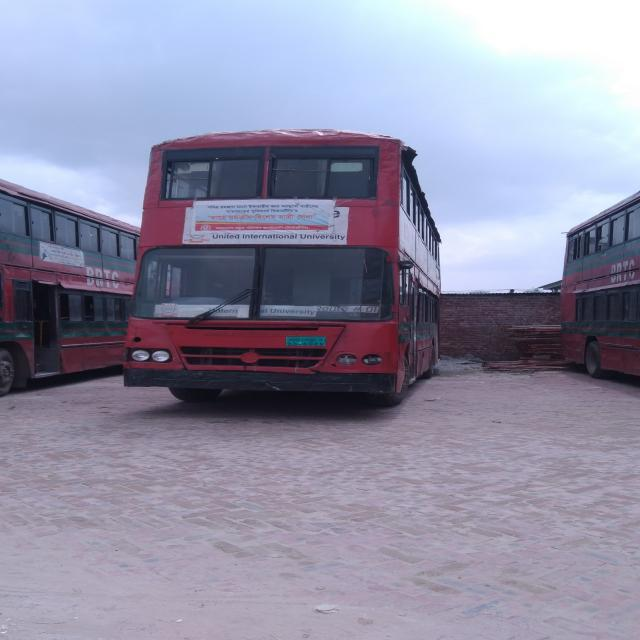Double decker: (101, 110, 462, 428), (1, 152, 222, 405), (544, 174, 640, 425)
